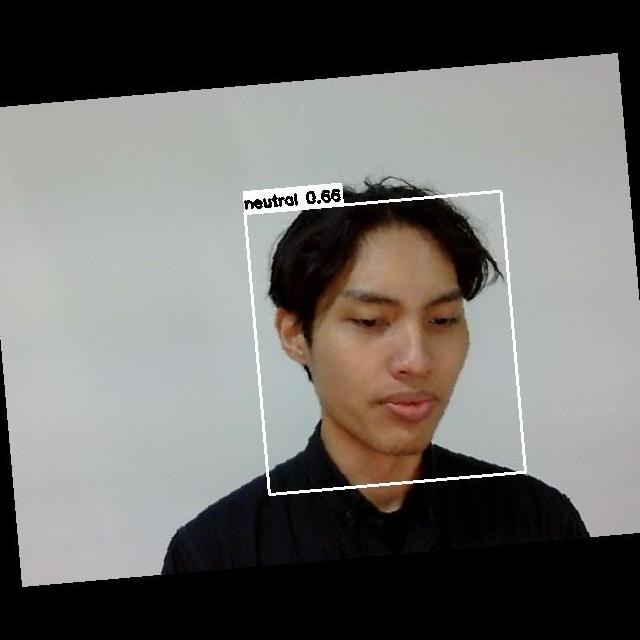Fear: (294, 255, 494, 452)
